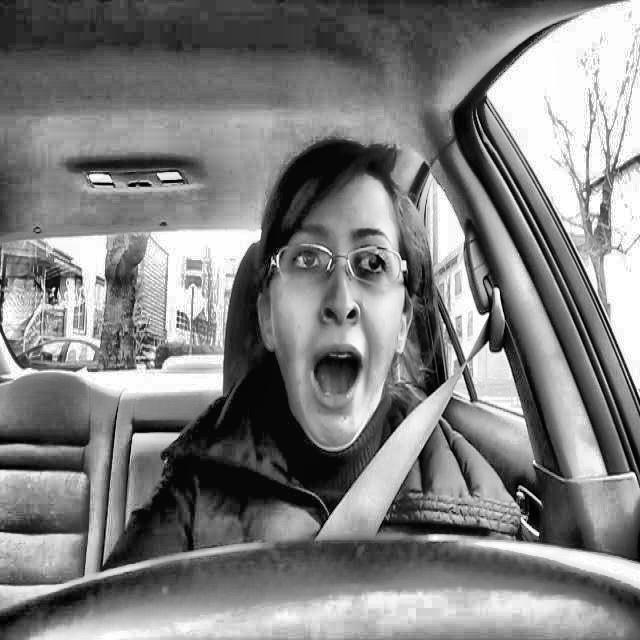open_eyes: (346, 242, 403, 283), (281, 240, 327, 281)
open_mouth: (299, 337, 374, 419)
